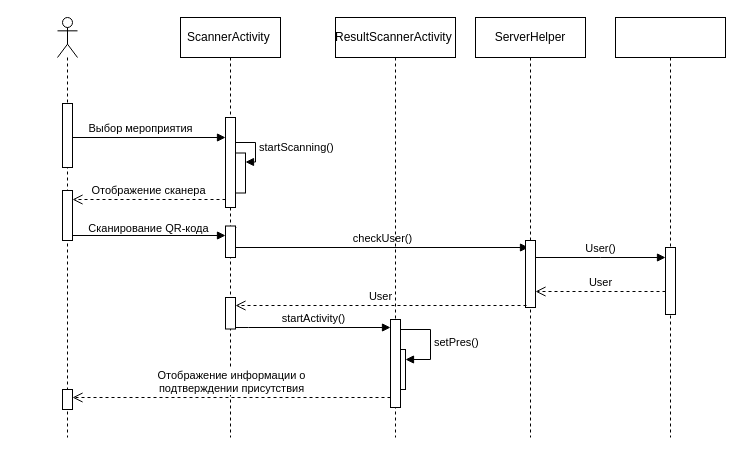
The diagram is 743 pixels wide and 455 high, and some of its shapes have lost their labels. Each missing label, with the centre of its shape:
"MyEvent" belongs at point (670, 227).
"Ответственный за мероприятие" belongs at point (67, 227).
